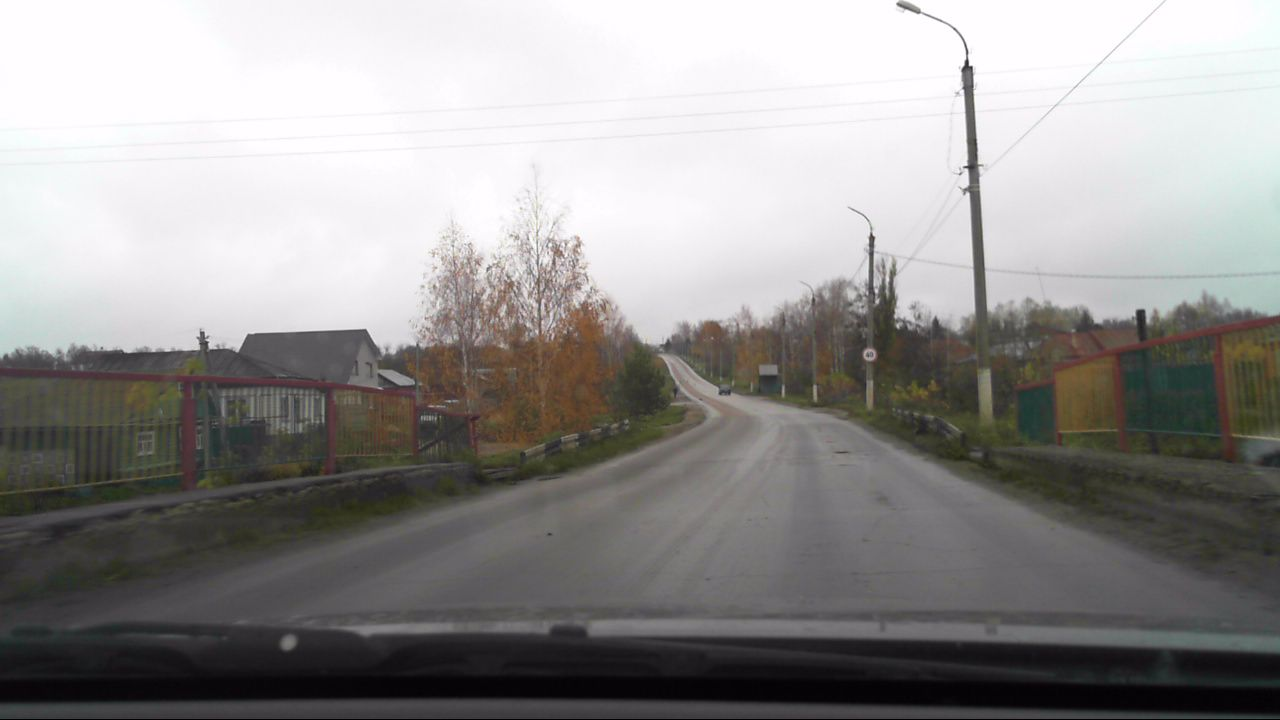speed_warning_40: (862, 346, 878, 364)
